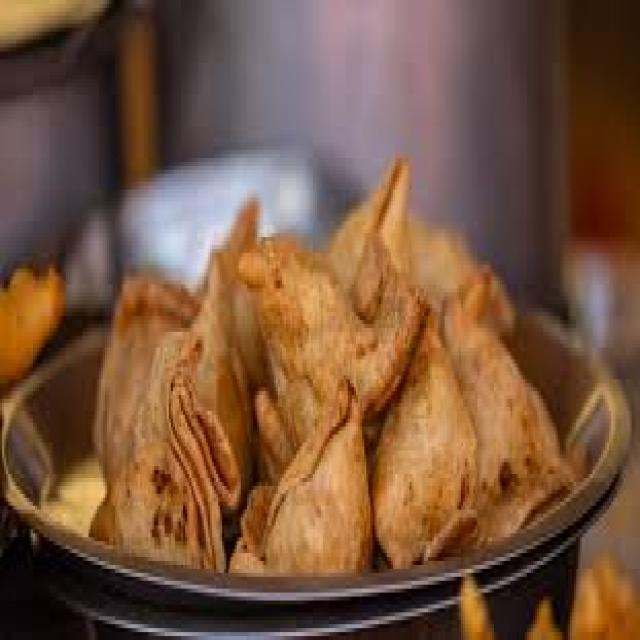SAMOSA: (241, 217, 432, 450), (90, 332, 240, 570), (440, 281, 571, 545), (370, 332, 483, 571), (233, 395, 373, 575), (92, 277, 190, 479), (183, 257, 255, 465), (330, 156, 413, 288)
